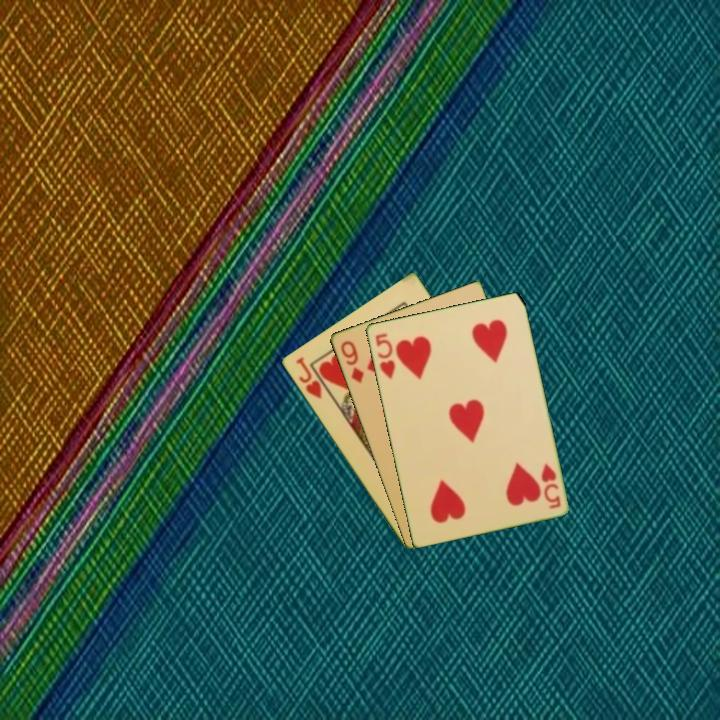5h: (371, 329, 398, 382), (537, 459, 563, 511)
9d: (337, 337, 366, 386)
Jh: (292, 353, 324, 402)
